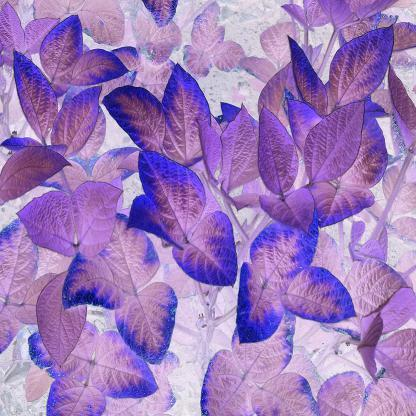Soyabean leaf: (127, 150, 209, 248), (165, 210, 246, 296), (280, 258, 360, 334), (330, 19, 398, 107), (252, 207, 321, 293), (302, 96, 366, 184), (33, 266, 86, 370), (160, 63, 212, 168), (113, 284, 178, 368), (232, 260, 290, 348), (101, 82, 167, 158), (60, 247, 130, 318), (10, 48, 62, 140), (15, 188, 82, 258), (0, 146, 72, 206), (52, 74, 104, 156), (285, 32, 332, 122), (254, 103, 300, 194), (216, 100, 260, 194), (72, 179, 126, 252), (37, 10, 85, 78), (254, 185, 315, 231), (67, 46, 133, 87)
